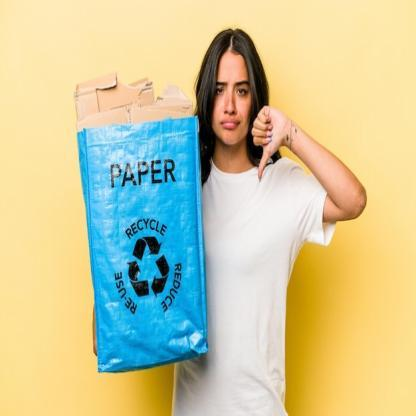thumb_down: (251, 102, 289, 182)
